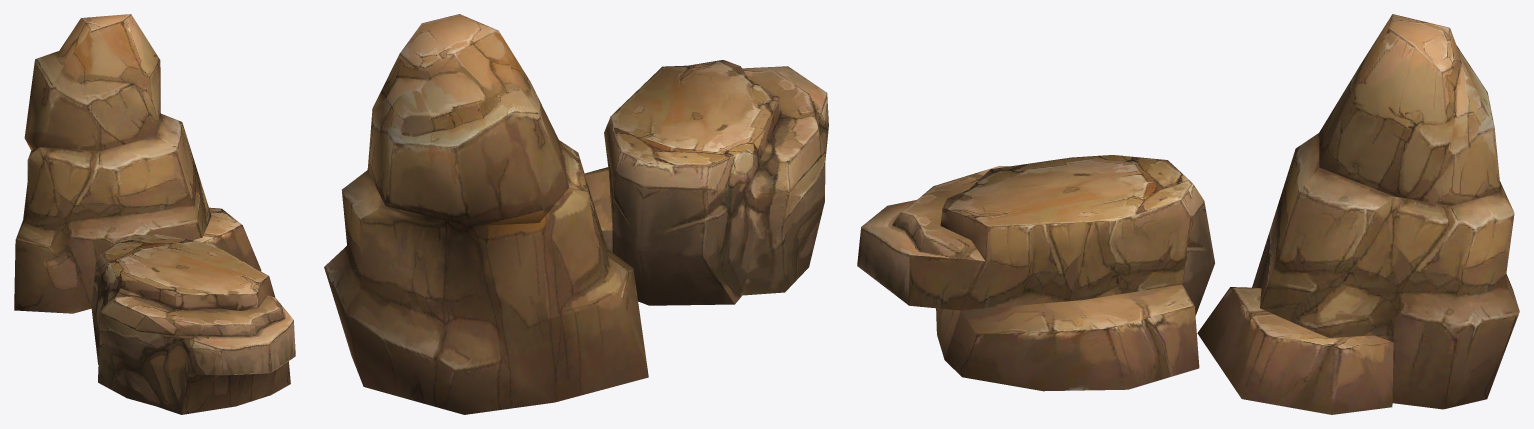
Rendered from zhsly_yanshi_b.FBX.
3 renders of one model, left to right at view 1: azimuth 30°, elevation 25°; view 2: azimuth 150°, elevation 25°; view 3: azimuth 270°, elevation 25°, orthographic. The views are drawn at different scales.
Parts seen in each view (by area): view 1: yanshi_b; view 2: yanshi_b; view 3: yanshi_b.
Part boxes in pixels (bbox=[...]): yanshi_b: bbox=[14, 14, 295, 414]; yanshi_b: bbox=[324, 14, 828, 414]; yanshi_b: bbox=[857, 14, 1519, 414].
Size of the model in its own units: 119 by 130 by 223.
